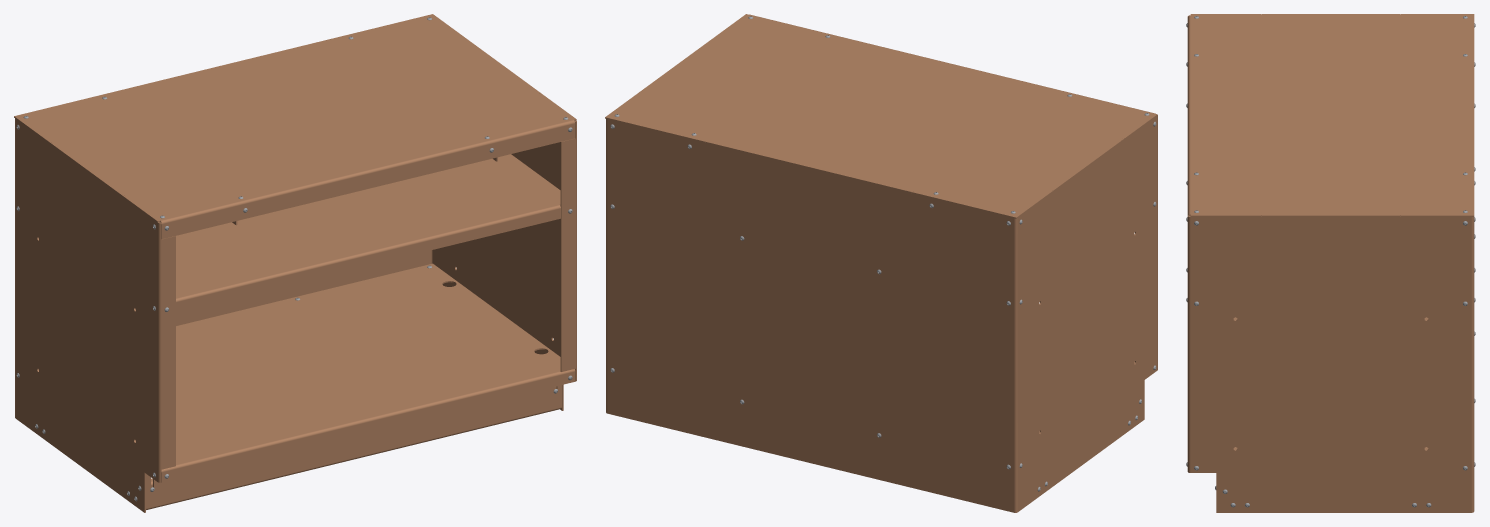
The model's file is horno1000.glb.
The picture shows the model from 3 angles, left to right: view 1: azimuth 30°, elevation 25°; view 2: azimuth 150°, elevation 25°; view 3: azimuth 270°, elevation 25°; orthographic projection.
Parts seen in each view (by area): view 1: corten; view 2: corten; view 3: corten, stal.
Boxes of the visible parts, x1,y1,x2,y2 form: corten: (14, 14, 576, 512); corten: (605, 14, 1157, 512); corten: (1187, 14, 1474, 512); stal: (1186, 16, 1475, 507).
Size of the model in its own units: 1.01 by 0.692 by 0.6059.
